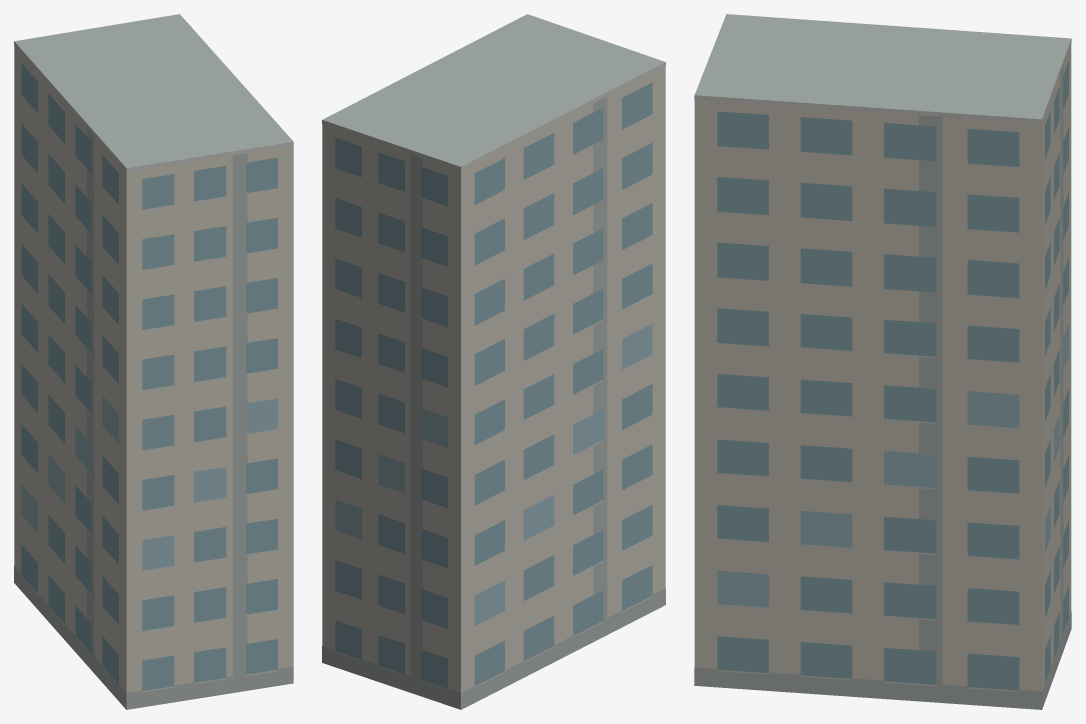
Rendered from residential-fadc9bb8-c0aa-48de-9649-74a2eab4b00b.glb.
The picture shows the model from 3 angles, left to right: view 1: azimuth 30°, elevation 25°; view 2: azimuth 150°, elevation 25°; view 3: azimuth 270°, elevation 25°; orthographic projection. The views are drawn at different scales.
Visible parts, largest first — view 1: residential-fadc9bb8-c0aa-48de-9649-74a2eab4b00b.tmp; view 2: residential-fadc9bb8-c0aa-48de-9649-74a2eab4b00b.tmp; view 3: residential-fadc9bb8-c0aa-48de-9649-74a2eab4b00b.tmp.
Boxes of the visible parts, <box> form: residential-fadc9bb8-c0aa-48de-9649-74a2eab4b00b.tmp: <box>14,14,293,709</box>; residential-fadc9bb8-c0aa-48de-9649-74a2eab4b00b.tmp: <box>322,14,665,709</box>; residential-fadc9bb8-c0aa-48de-9649-74a2eab4b00b.tmp: <box>694,14,1071,709</box>.
Size of the model in its own units: 12.64 by 33 by 19.1.
